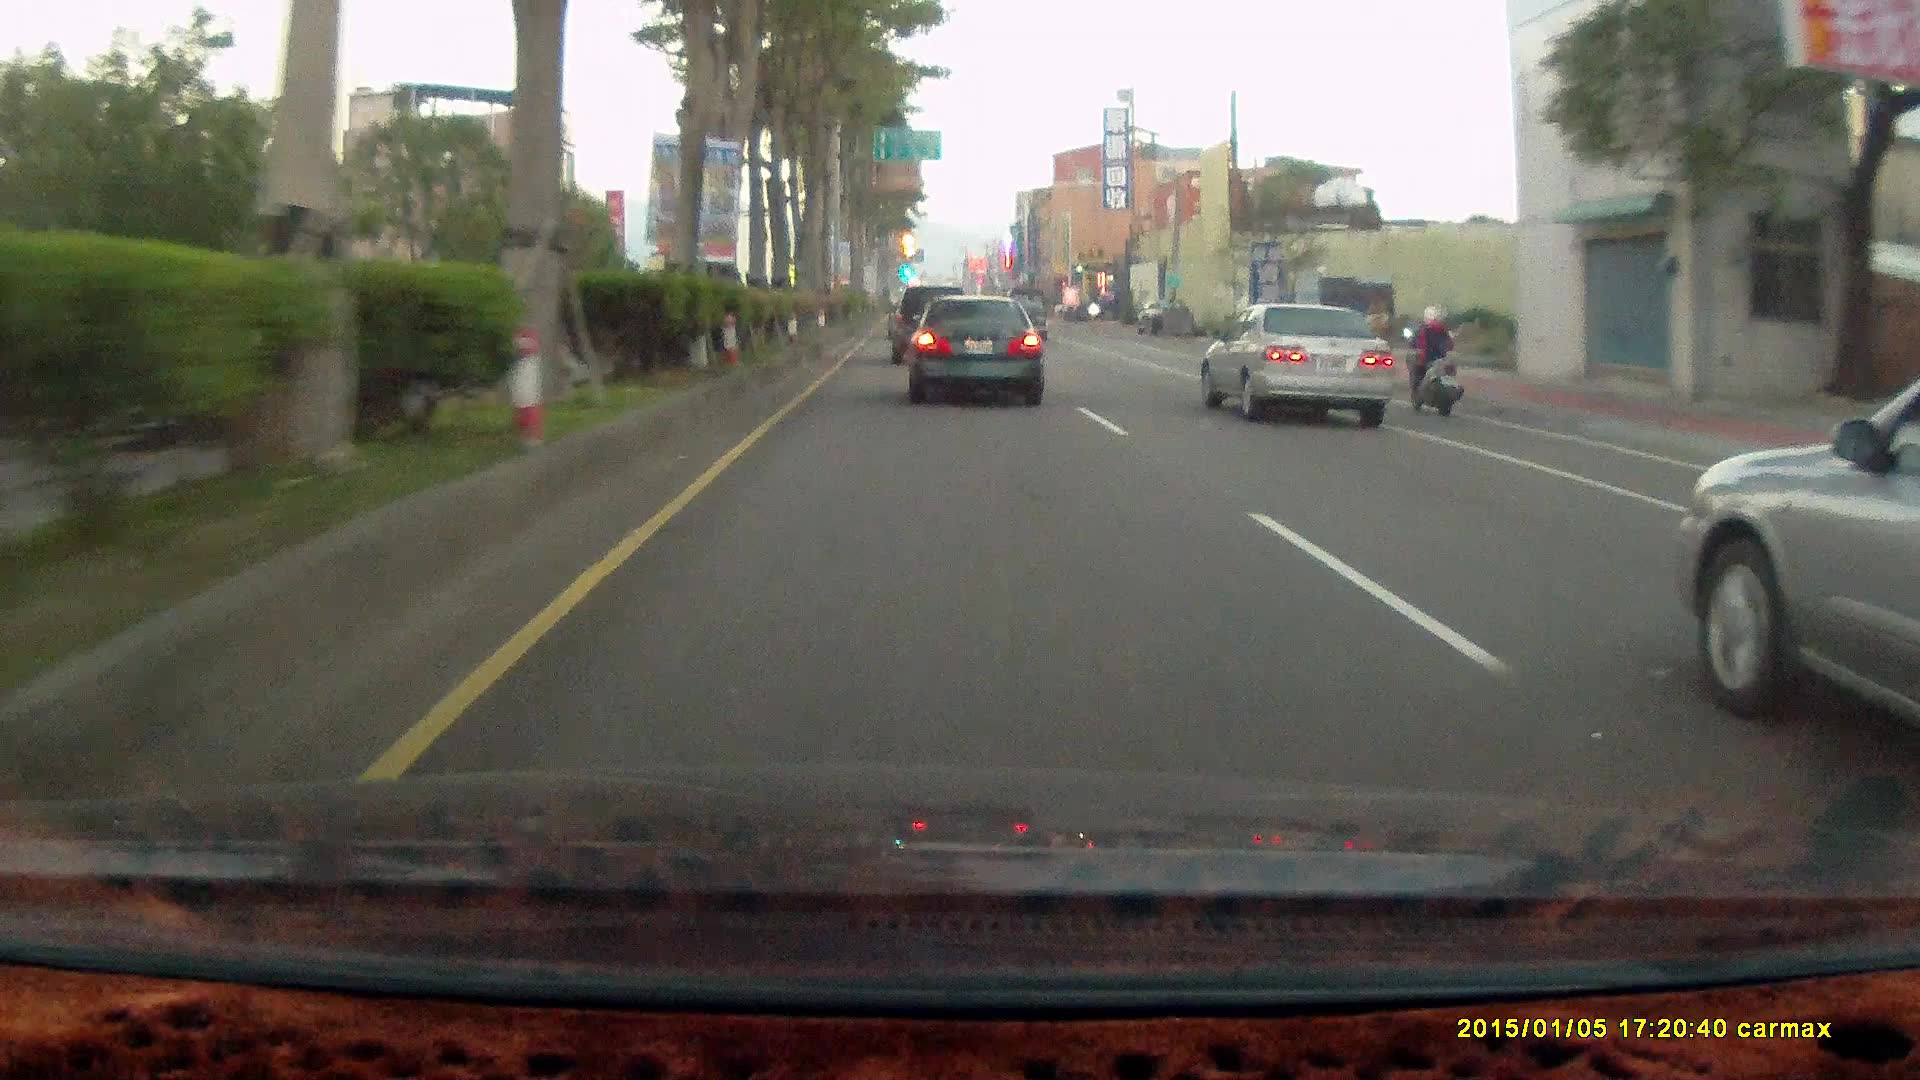rider: (1393, 295, 1472, 426), (1399, 301, 1464, 415)
vehicle: (1687, 376, 1920, 766), (1196, 300, 1395, 425), (1208, 302, 1398, 427), (904, 293, 1044, 405), (904, 293, 1042, 401), (1283, 277, 1395, 368), (890, 285, 972, 366), (889, 283, 972, 364), (1004, 288, 1050, 340), (1086, 286, 1144, 321)
